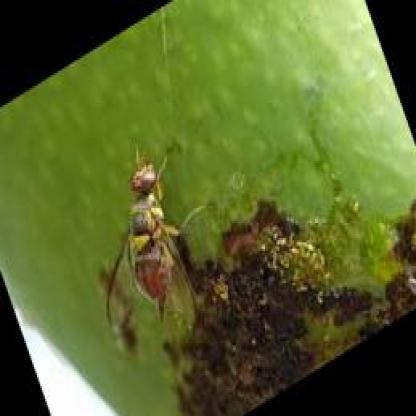fruit fly: (105, 150, 196, 363)
